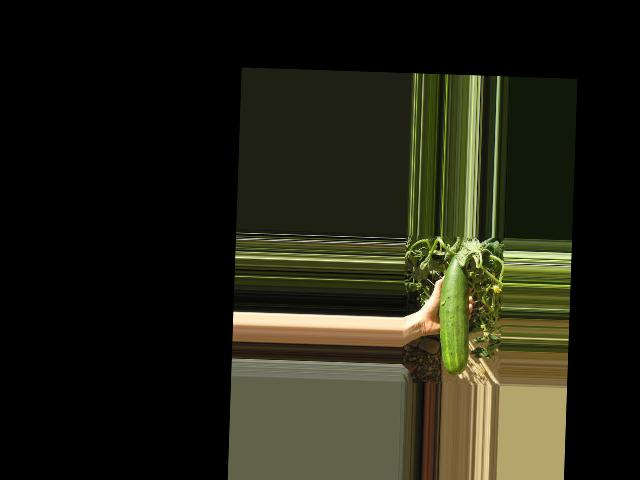cucumber: (437, 252, 471, 375)
